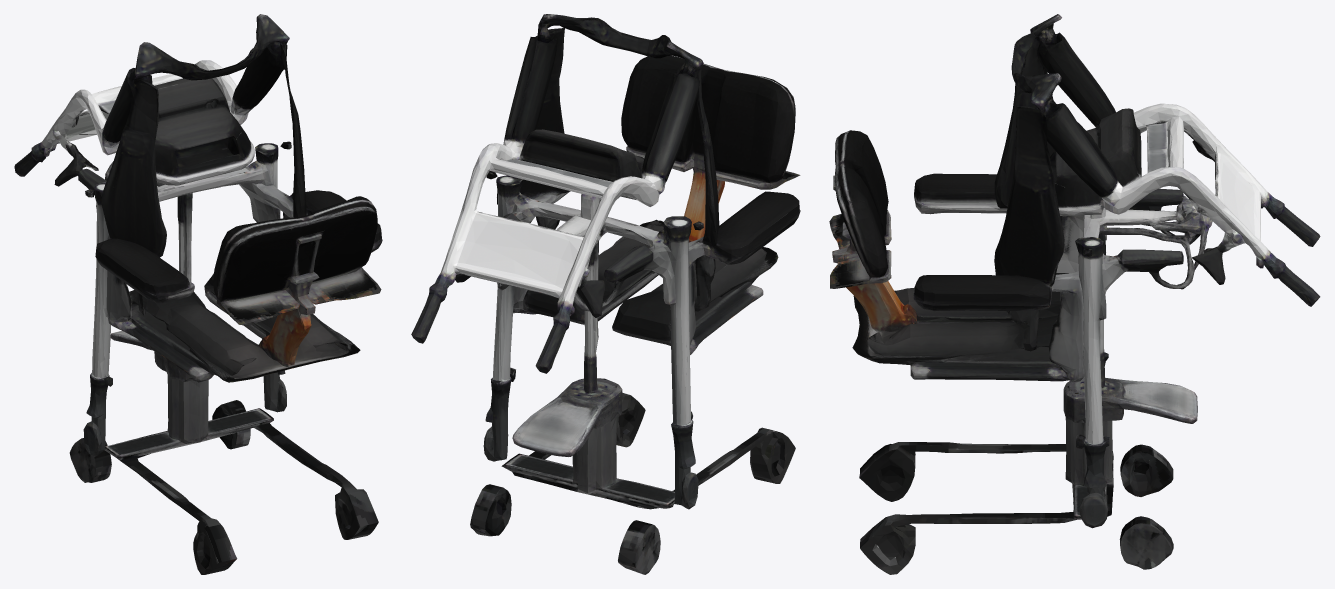
The model's file is sample.glb.
The picture shows the model from 3 angles, left to right: view 1: azimuth 30°, elevation 25°; view 2: azimuth 150°, elevation 25°; view 3: azimuth 270°, elevation 25°; orthographic projection. The views are drawn at different scales.
Visible parts, largest first — view 1: world; view 2: world; view 3: world.
Boxes of the visible parts, x1,y1,x2,y2 form: world: [14, 14, 382, 574]; world: [411, 14, 800, 574]; world: [829, 14, 1320, 574].
Size of the model in its own units: 0.4434 by 0.8396 by 0.7641.
Materials: 1 (1 with a texture image).
